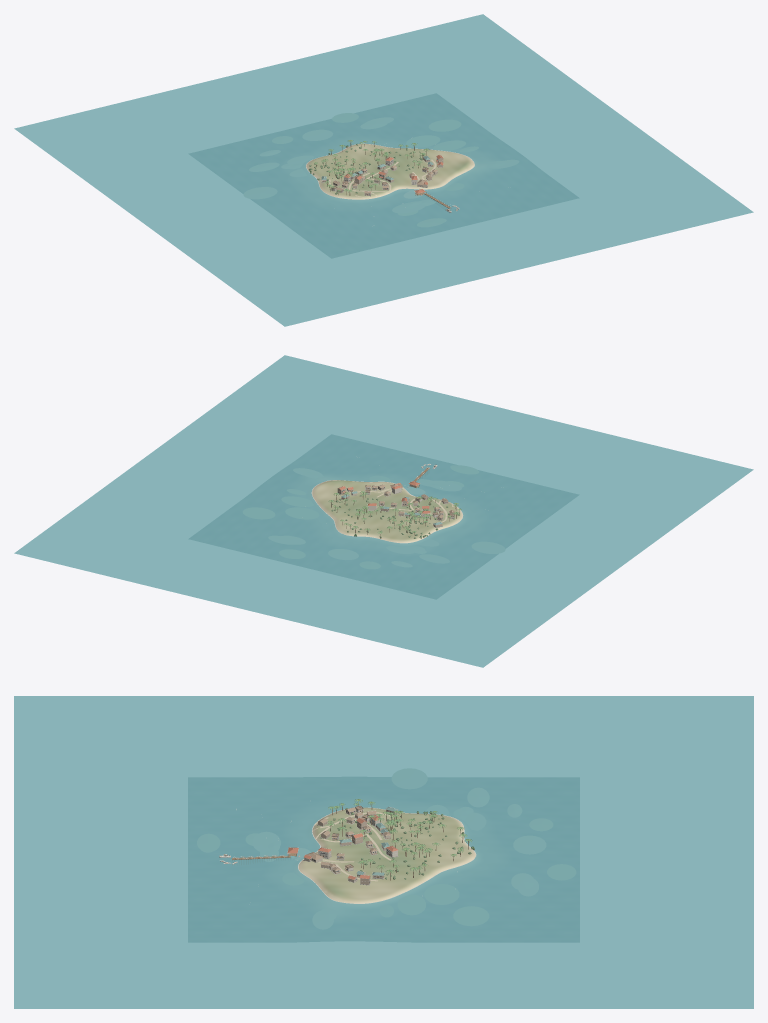
The model's file is coast.glb.
The picture shows the model from 3 angles, top to bottom: view 1: azimuth 30°, elevation 25°; view 2: azimuth 150°, elevation 25°; view 3: azimuth 270°, elevation 25°; orthographic projection. The views are drawn at different scales.
Visible parts, largest first — view 1: ENV_Water, ENV_Terrain; view 2: ENV_Water, ENV_Terrain; view 3: ENV_Water, ENV_Terrain, FX_Reef_07, FX_Reef_00, FX_Reef_12.
Part boxes in pixels (x1,y1,x2,y2): ENV_Water: [14, 14, 753, 326]; ENV_Terrain: [190, 94, 577, 257]; ENV_Water: [14, 355, 753, 667]; ENV_Terrain: [190, 435, 577, 598]; ENV_Water: [14, 696, 753, 1008]; ENV_Terrain: [188, 777, 579, 941]; FX_Reef_07: [392, 769, 426, 788]; FX_Reef_00: [425, 884, 458, 904]; FX_Reef_12: [454, 907, 488, 925].
Bounding box in the file's own units: 680 × 20.54 × 680.
